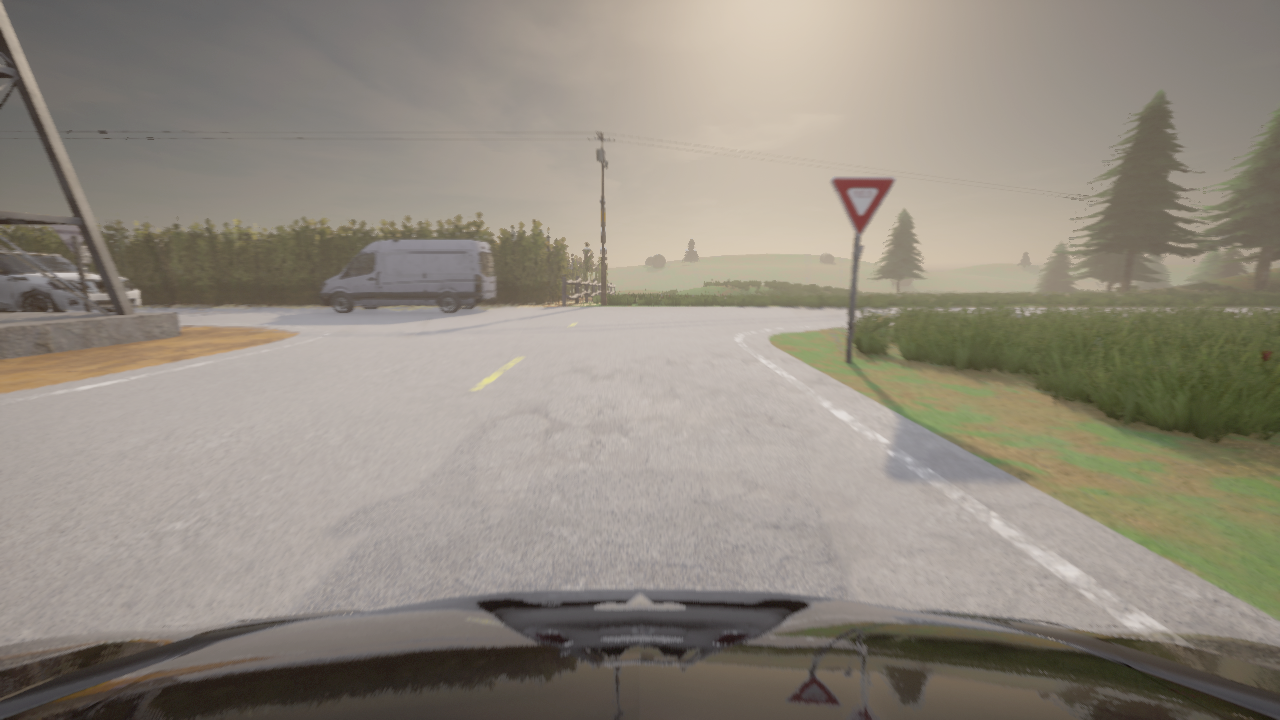cyclist: (0, 588, 1279, 719), (319, 239, 496, 313), (0, 250, 141, 312)
